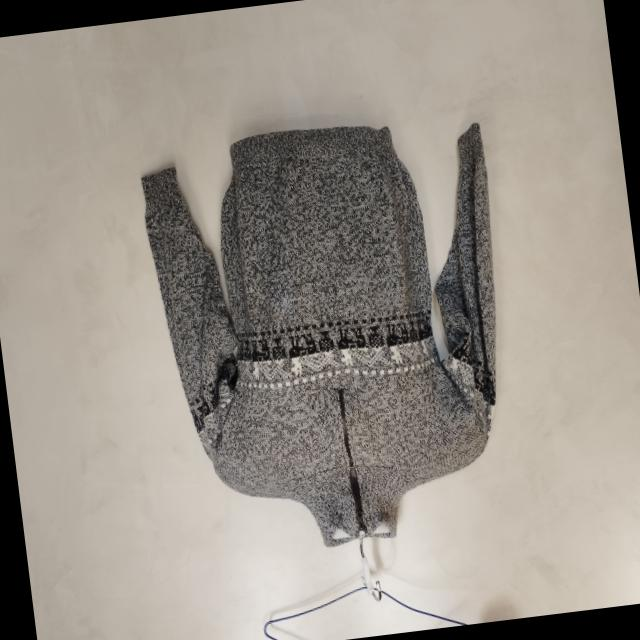Chompa: (135, 106, 531, 567)
